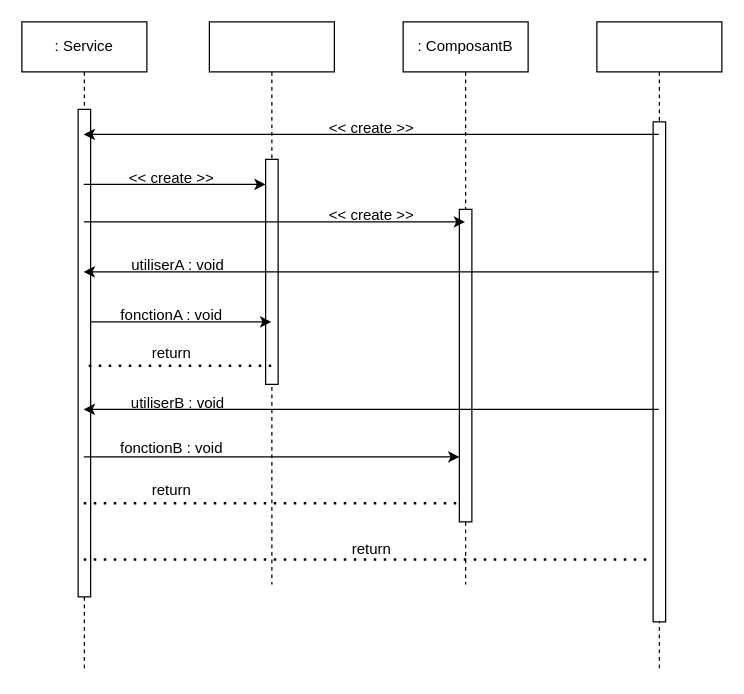
The diagram is 744 pixels wide and 694 high, and some of its shapes have lost their labels. The box of each missing label's shape, as (x1, y1, x2, y2) in pixels:
: ComposantA: (208, 21, 334, 584)
: Main: (596, 21, 722, 672)
